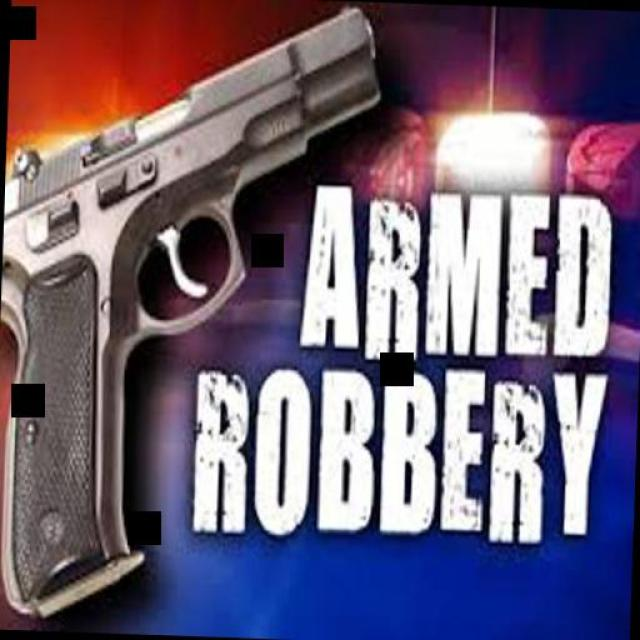gun: (0, 0, 378, 615)
